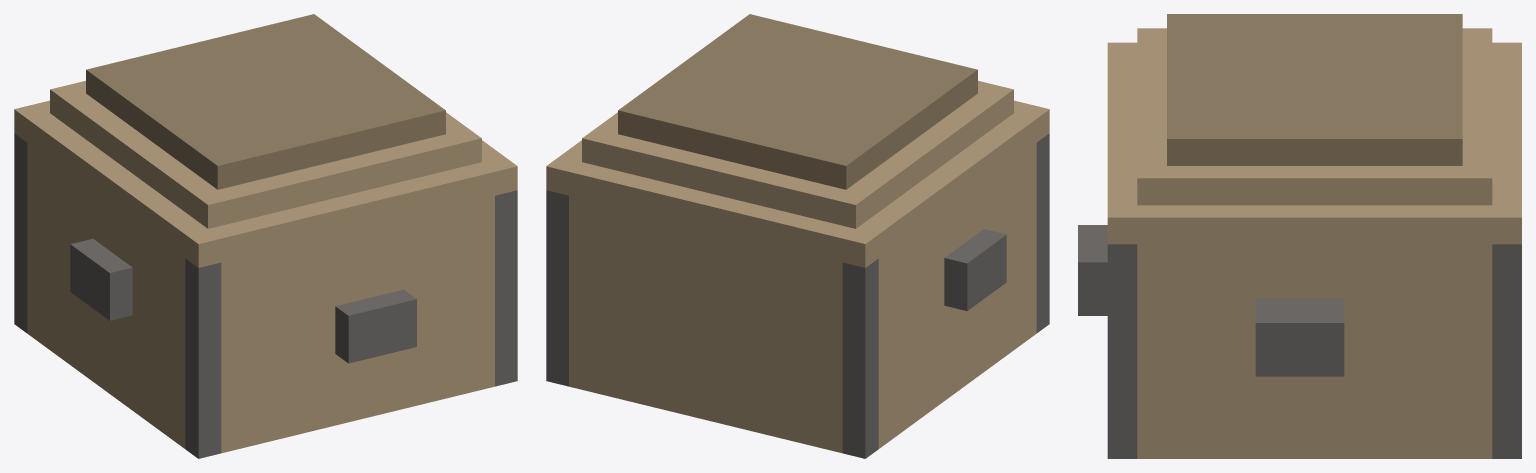
Rendered from barriles_apilados_avellano_01.glb.
3 renders of one model, left to right at view 1: azimuth 30°, elevation 25°; view 2: azimuth 150°, elevation 25°; view 3: azimuth 270°, elevation 25°, orthographic. The views are drawn at different scales.
Visible parts, largest first — view 1: barriles_apilados_avellano; view 2: barriles_apilados_avellano; view 3: barriles_apilados_avellano.
Part boxes in pixels (bbox=[...]): barriles_apilados_avellano: bbox=[14, 14, 517, 458]; barriles_apilados_avellano: bbox=[546, 14, 1049, 458]; barriles_apilados_avellano: bbox=[1078, 14, 1521, 458].
Bounding box in the file's own units: 1.21 × 0.7857 × 1.07.
